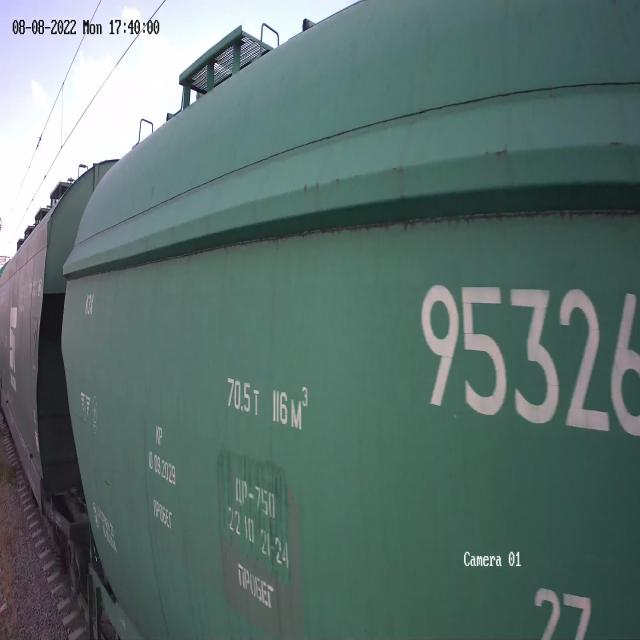hopper: (51, 0, 640, 640), (0, 135, 108, 537)
